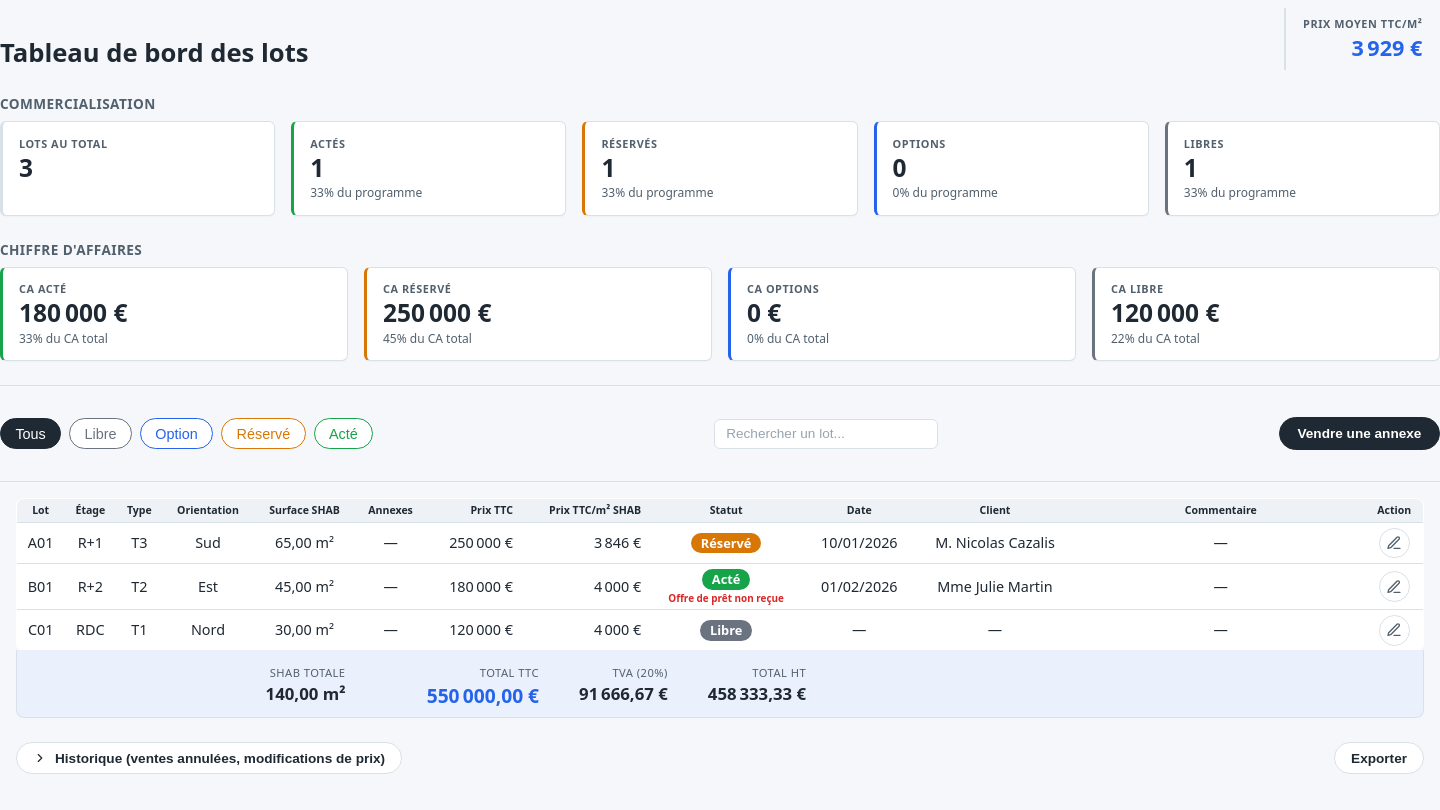
Test: Lots — panneau "Modifier" › soumission réussie : recharge et ferme le panneau
The image size is (1440, 810).
Check: the table is shown, box [16,498,1424,651]
Click the button named "Modifier" in the row of "A01" at (1394, 543), box [1379,528,1410,558]
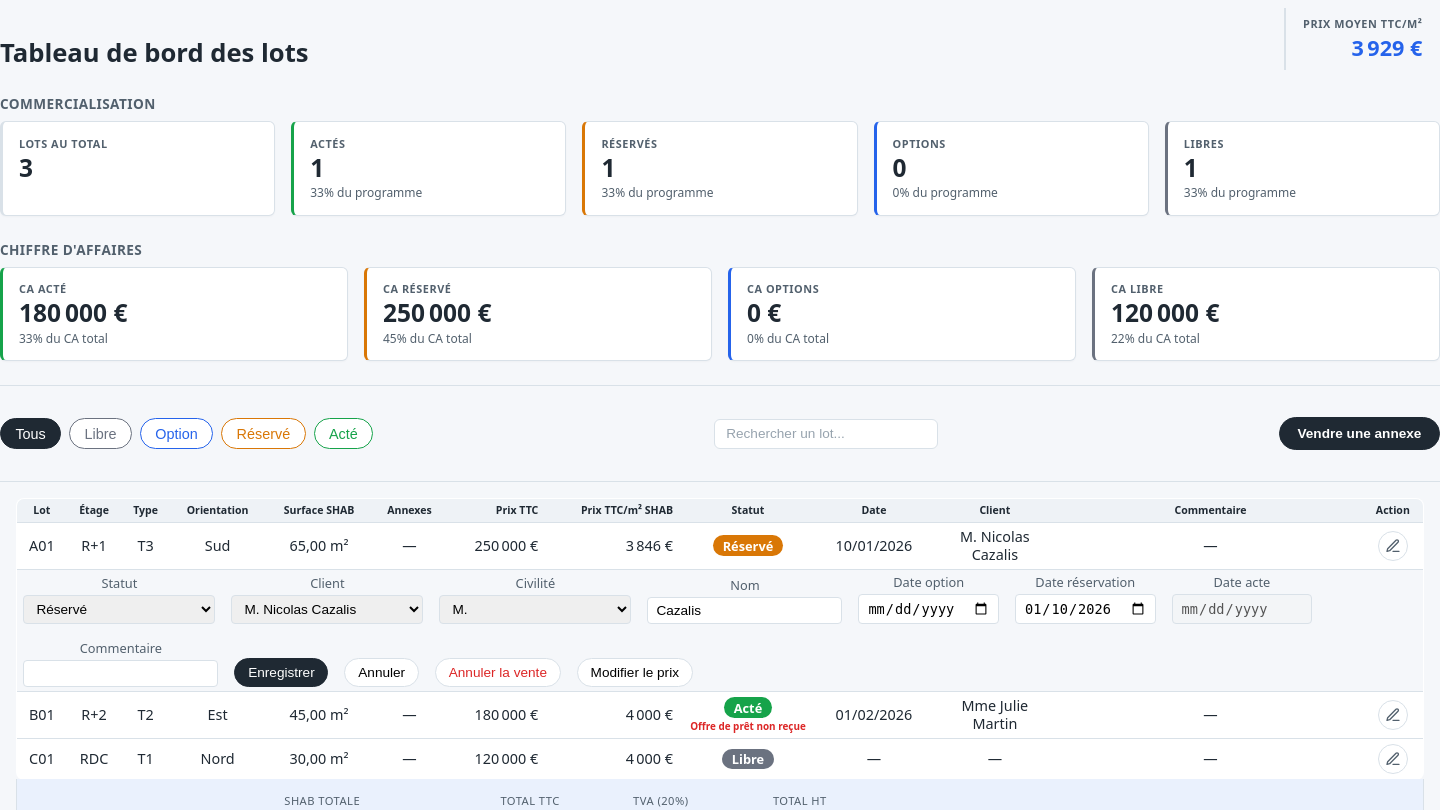
Click the button "Enregistrer" at (281, 672), box [234,658,328,686]
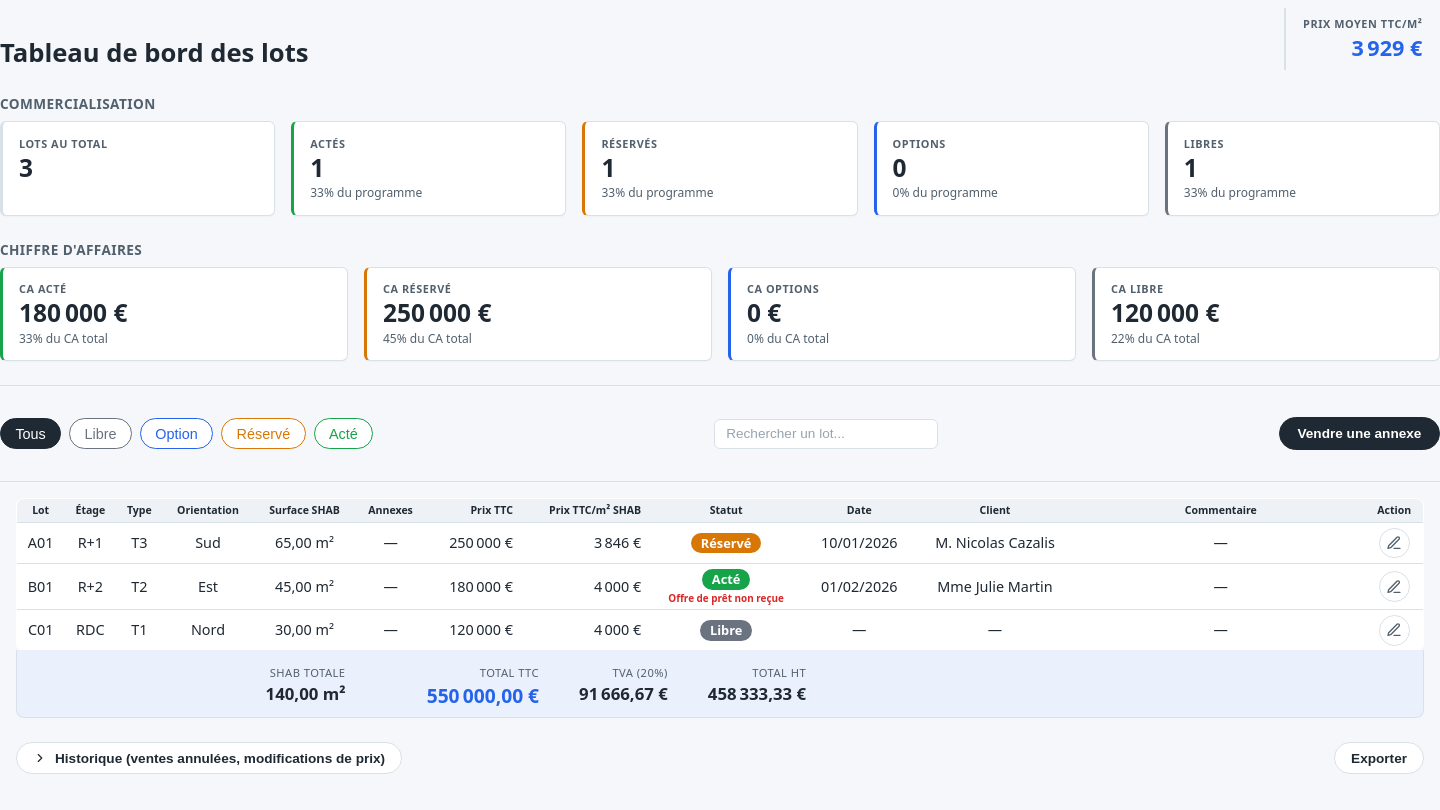
Check: the text "Date option" is gone
